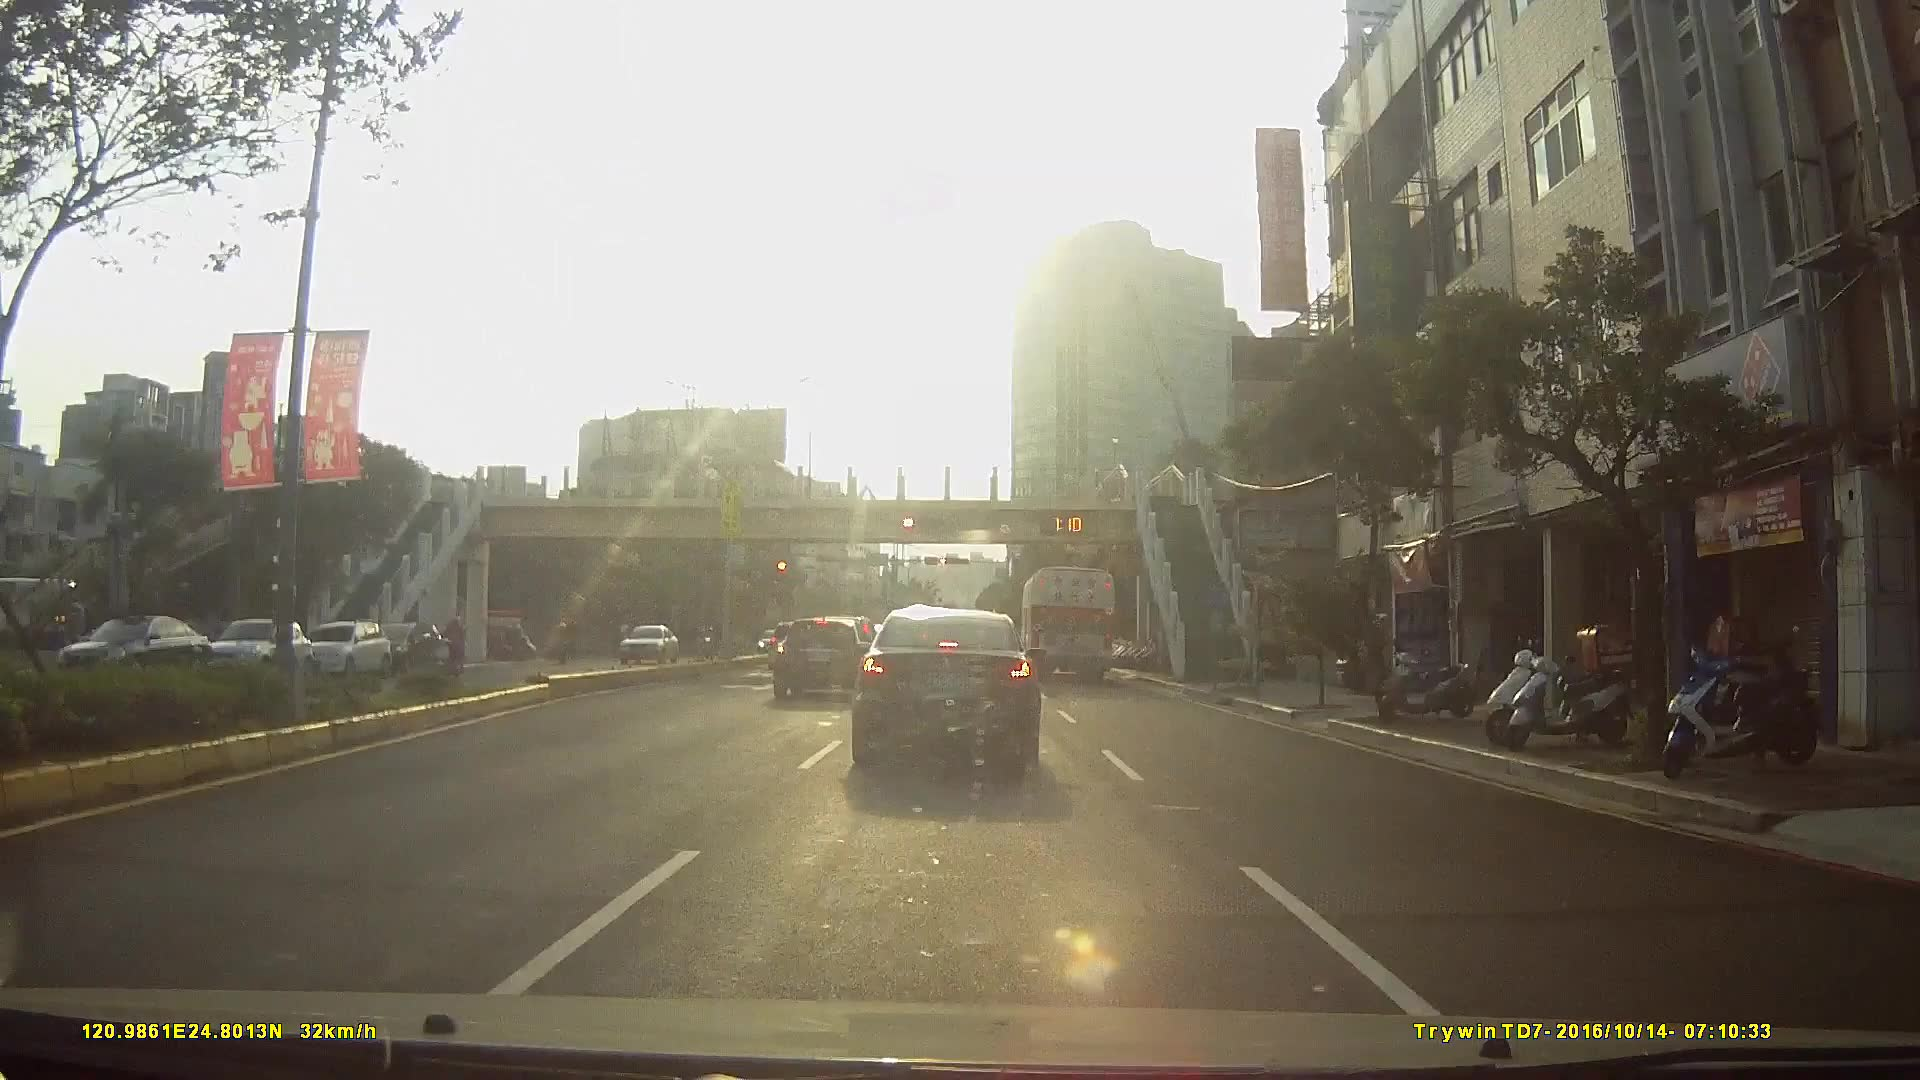rider: (431, 618, 471, 686)
vehicle: (848, 603, 1044, 768), (1019, 564, 1119, 683), (50, 613, 207, 685), (768, 614, 872, 701), (195, 617, 308, 681), (295, 619, 390, 675), (367, 620, 442, 674), (613, 620, 675, 664)
